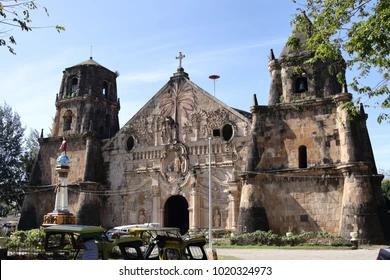miagao_church_miagao_iloilo: (16, 39, 390, 245)
